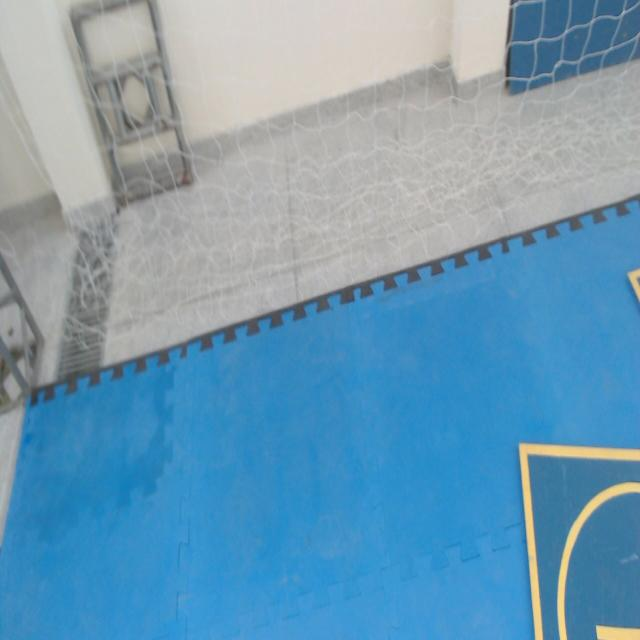base_pouso: (518, 442, 640, 639), (628, 269, 640, 312)
